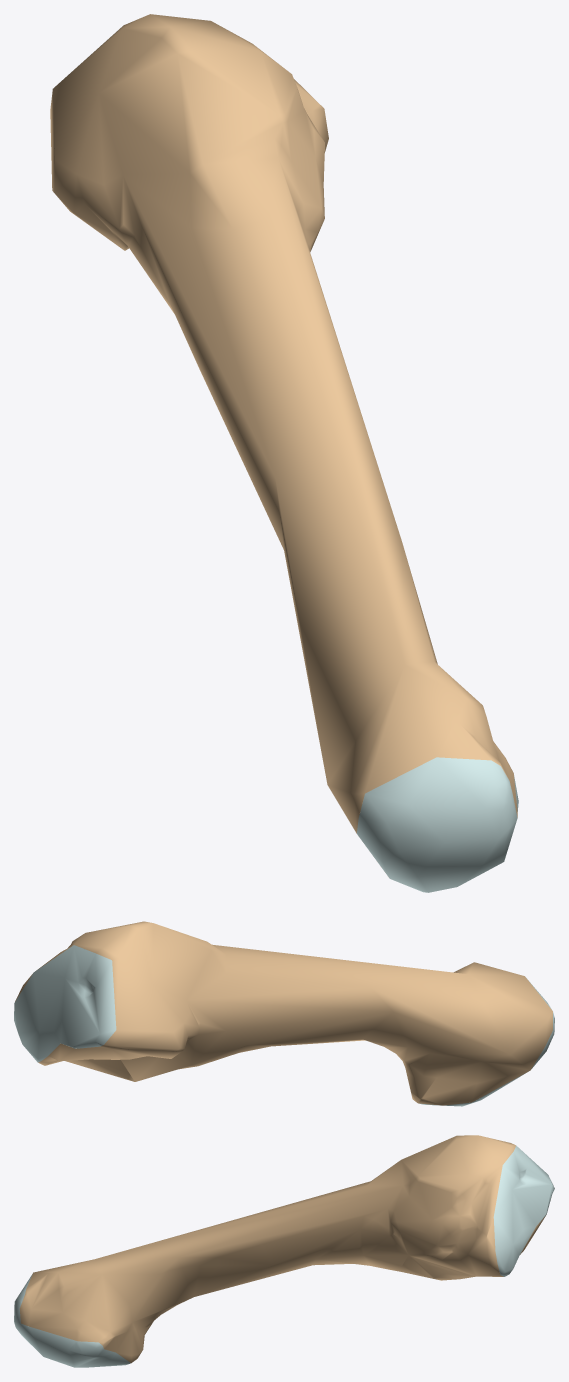
File: 4th_metatarsal_bone.r_Generated_Mesh_From_X3D.925.glb
3 renders of one model, top to bottom at view 1: azimuth 30°, elevation 25°; view 2: azimuth 150°, elevation 25°; view 3: azimuth 270°, elevation 25°, orthographic. The views are drawn at different scales.
Parts seen in each view (by area): view 1: 4th_metatarsal_bone.r_Generated_Mesh_From_X3D.925; view 2: 4th_metatarsal_bone.r_Generated_Mesh_From_X3D.925; view 3: 4th_metatarsal_bone.r_Generated_Mesh_From_X3D.925.
Boxes of the visible parts, bbox=[...] form: 4th_metatarsal_bone.r_Generated_Mesh_From_X3D.925: bbox=[50, 14, 518, 892]; 4th_metatarsal_bone.r_Generated_Mesh_From_X3D.925: bbox=[14, 921, 554, 1106]; 4th_metatarsal_bone.r_Generated_Mesh_From_X3D.925: bbox=[14, 1135, 554, 1367].
Size of the model in its own units: 0.0299 by 0.037 by 0.0685.
